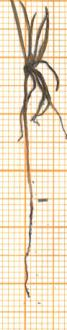flower: (1, 0, 67, 150)
root: (18, 198, 38, 298)
stem: (17, 80, 37, 199)
